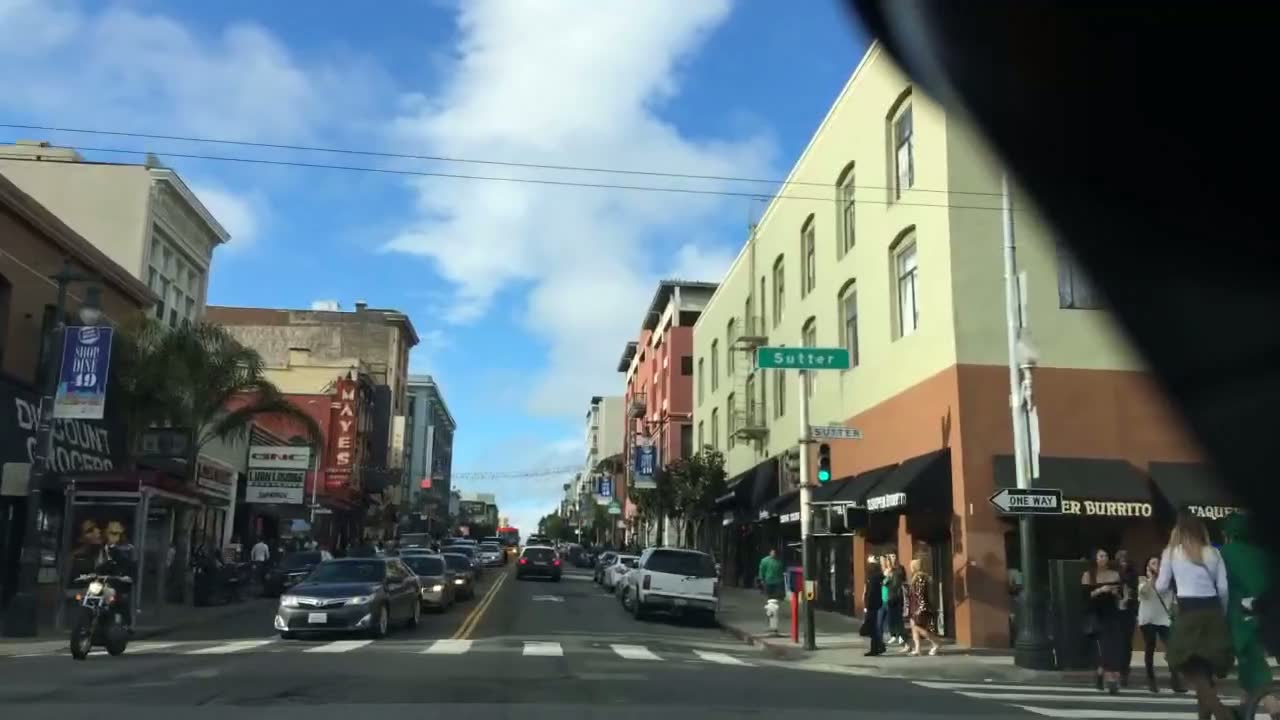bike: (69, 542, 144, 659)
car: (269, 554, 422, 642), (620, 546, 720, 625), (396, 554, 456, 613), (439, 551, 479, 600), (514, 545, 561, 581), (599, 553, 640, 593), (477, 543, 504, 567)
pedestrian: (1154, 512, 1242, 720), (1216, 511, 1280, 720), (1077, 545, 1121, 697), (1137, 552, 1176, 694), (902, 558, 938, 658), (1106, 550, 1131, 684), (858, 553, 886, 657), (884, 549, 907, 646), (757, 545, 785, 599), (873, 555, 888, 647)
